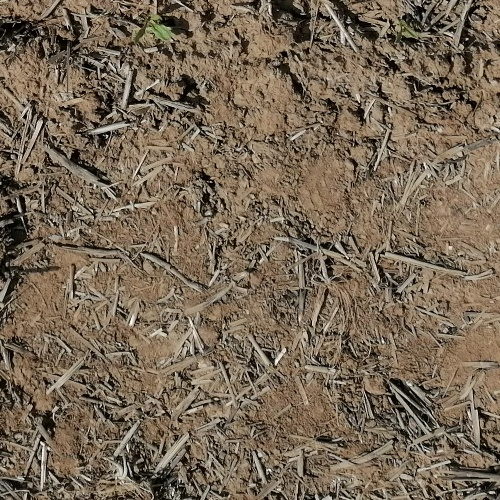beet: (126, 14, 177, 44)
